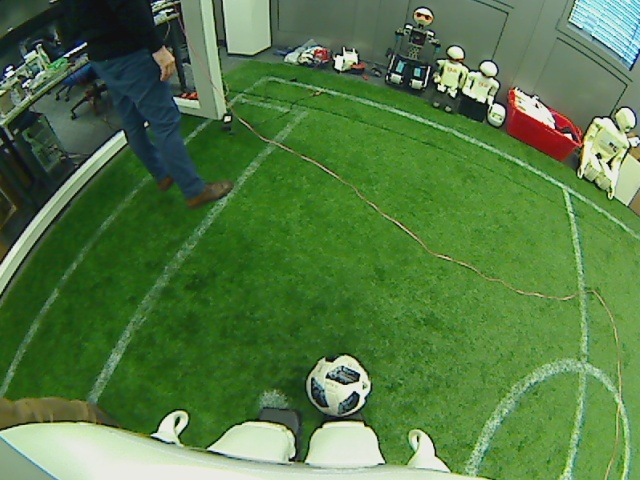ball: (303, 352, 374, 418)
